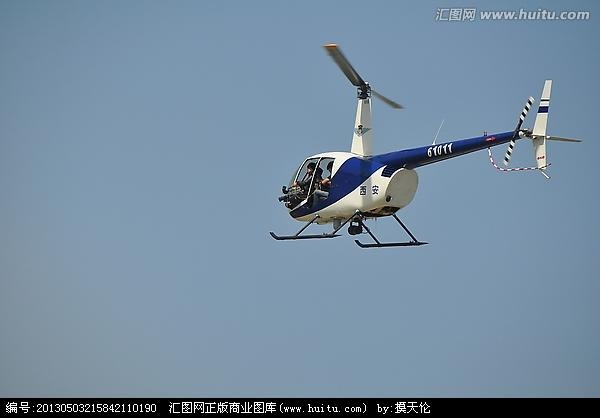airplane: (267, 42, 580, 262)
